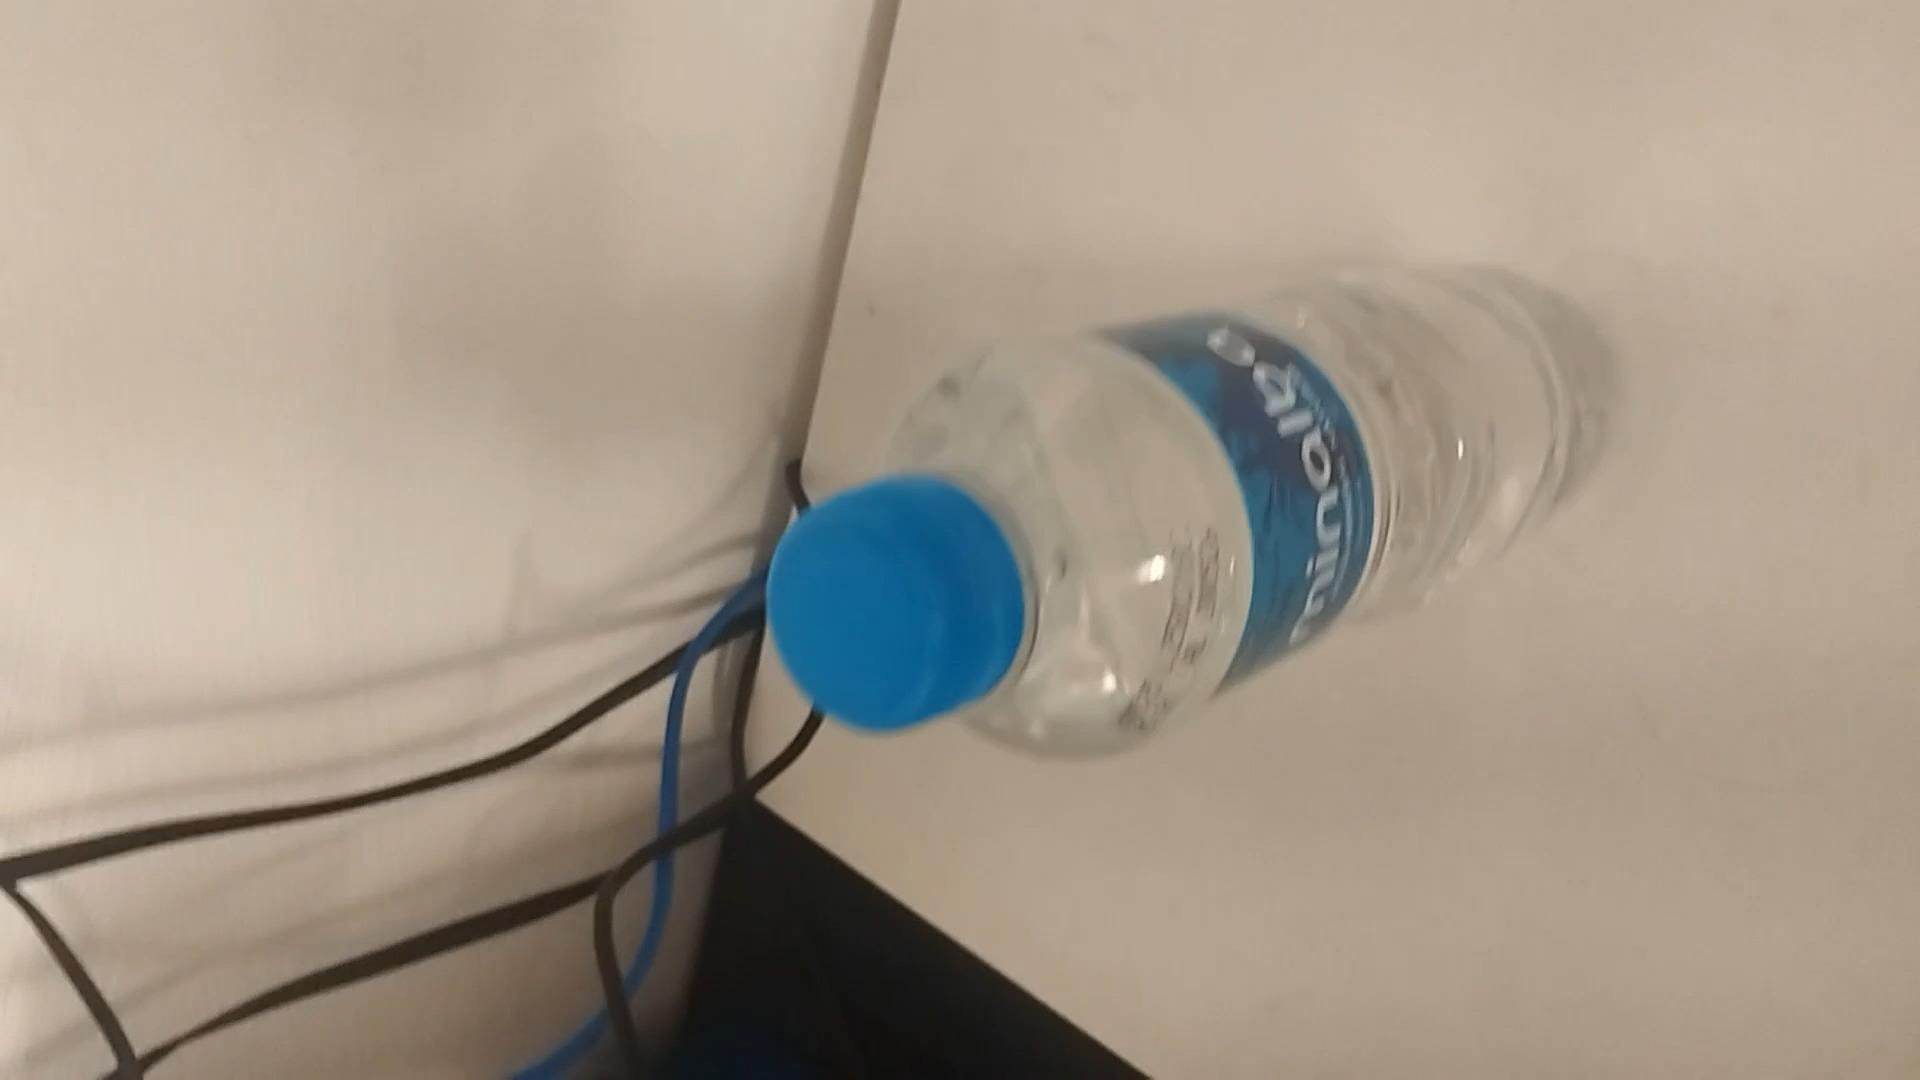agua: (786, 264, 1594, 756)
